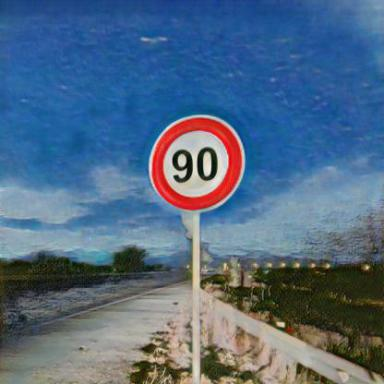Speed_limit_90: (151, 119, 242, 211)
